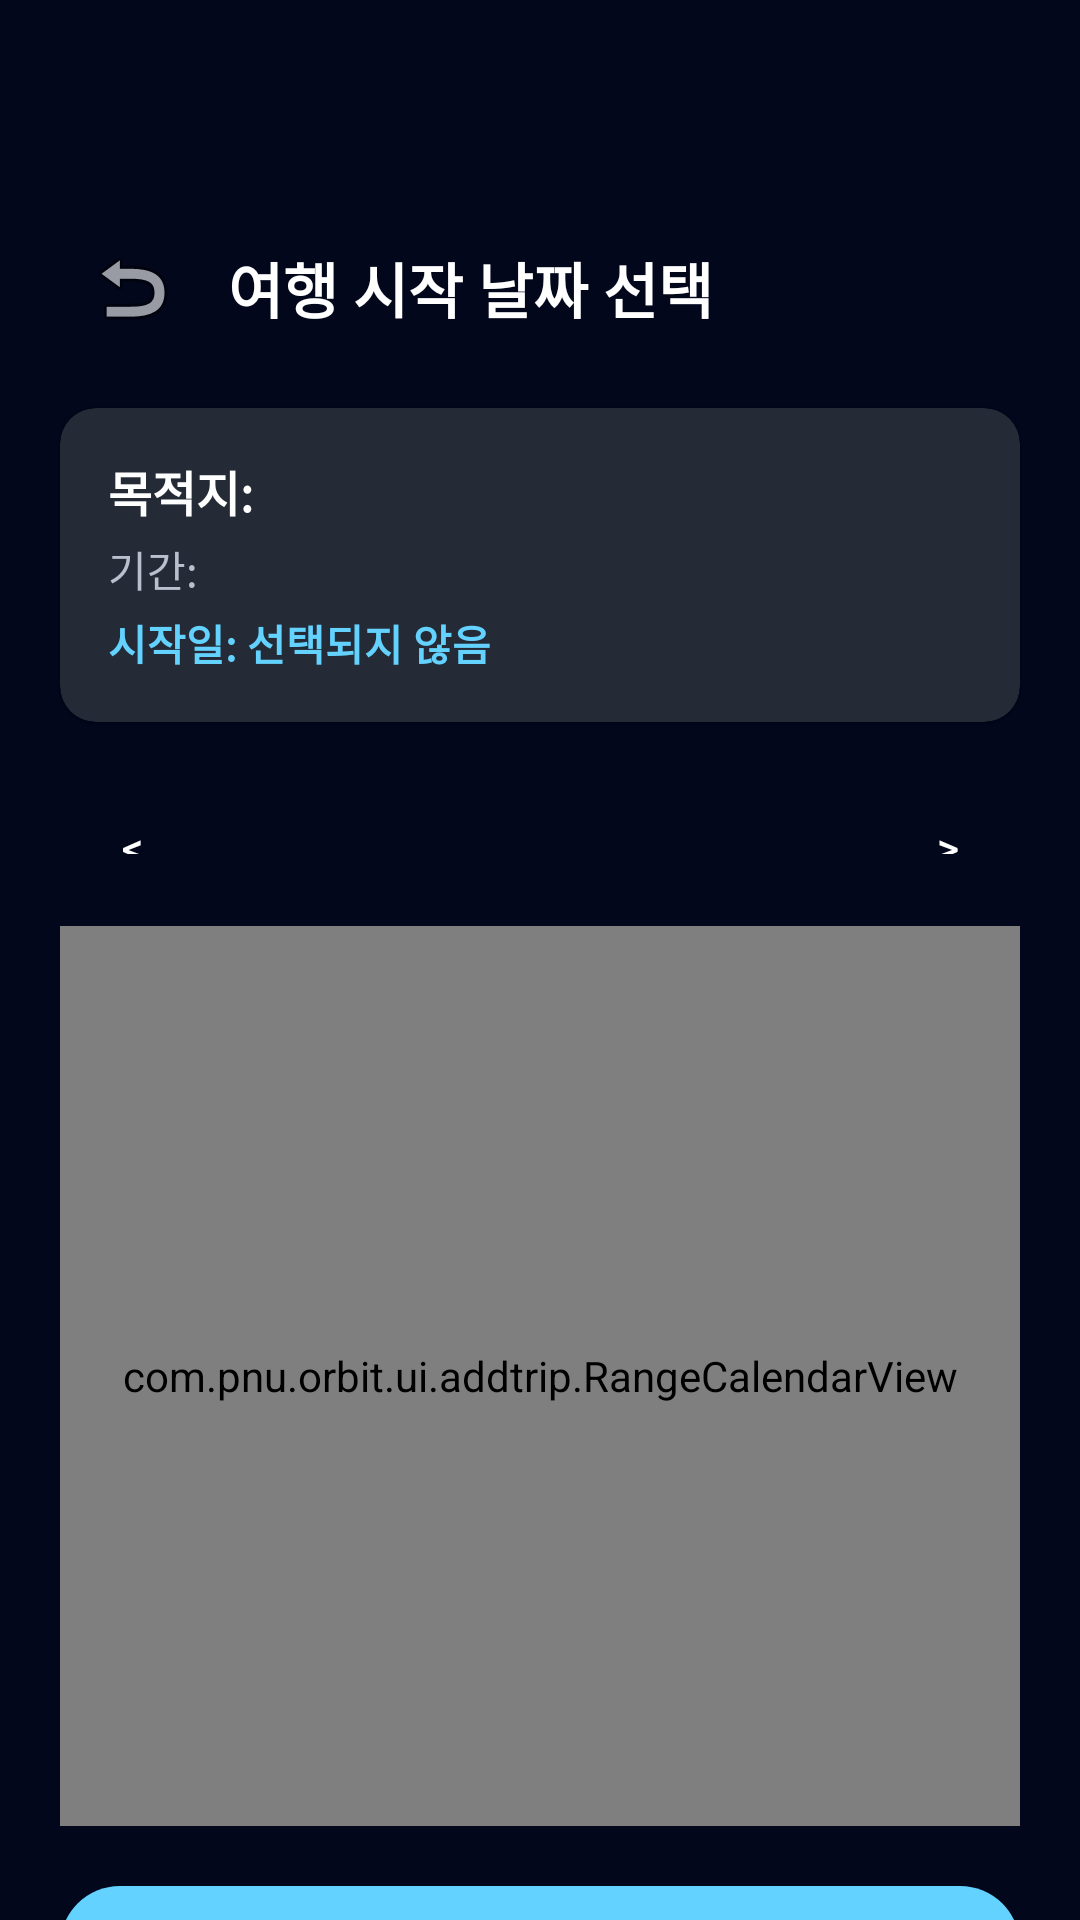

Named icons in this screenshot (1080x1920) and their bounding boxes, (x1, y1, x2, y2):
Back: (102, 260, 165, 317)
